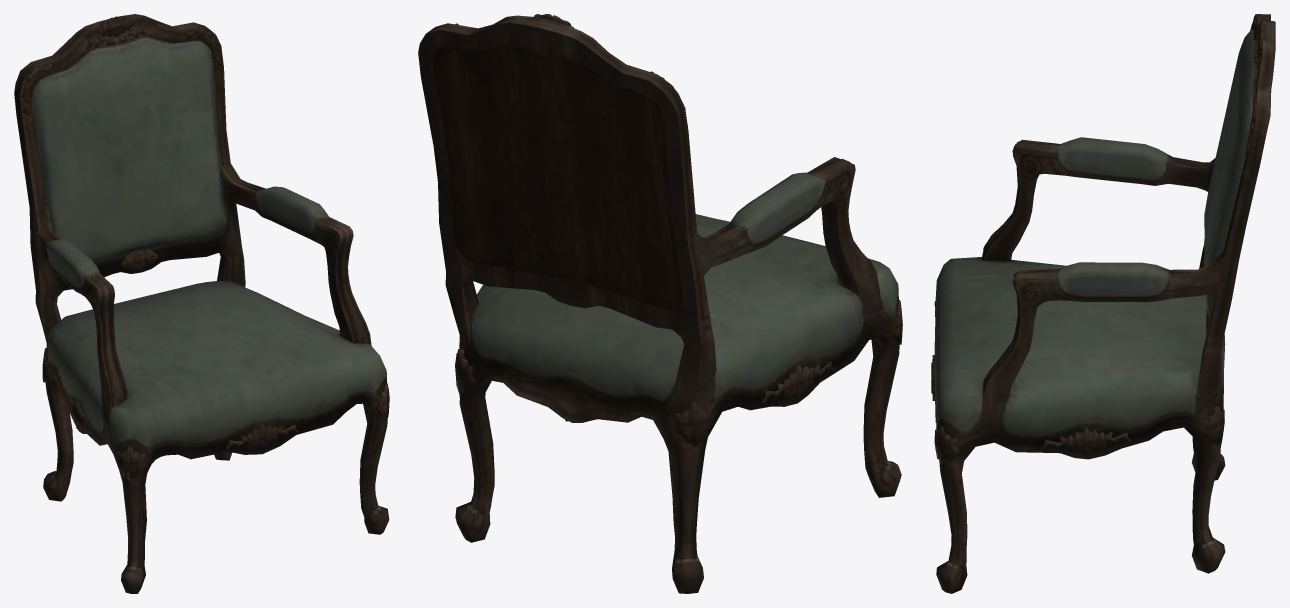
The model's file is green_chair_01.glb.
The picture shows the model from 3 angles, left to right: view 1: azimuth 30°, elevation 25°; view 2: azimuth 150°, elevation 25°; view 3: azimuth 270°, elevation 25°; orthographic projection. The views are drawn at different scales.
Visible parts, largest first — view 1: GreenChair_01; view 2: GreenChair_01; view 3: GreenChair_01.
Boxes of the visible parts, x1,y1,x2,y2 form: GreenChair_01: (14, 14, 389, 593); GreenChair_01: (418, 14, 902, 593); GreenChair_01: (931, 14, 1275, 593).
Bounding box in the file's own units: 0.6732 × 1.06 × 0.6644.
Materials: 1 (1 with a texture image).
